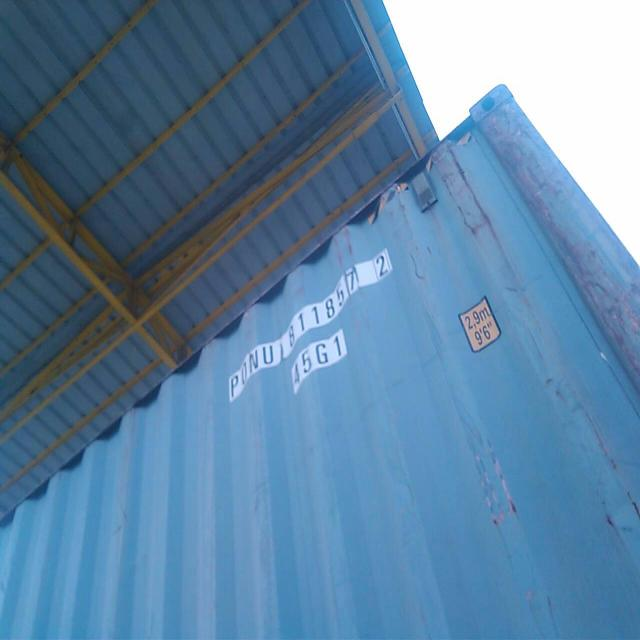rust: (471, 84, 640, 373)
